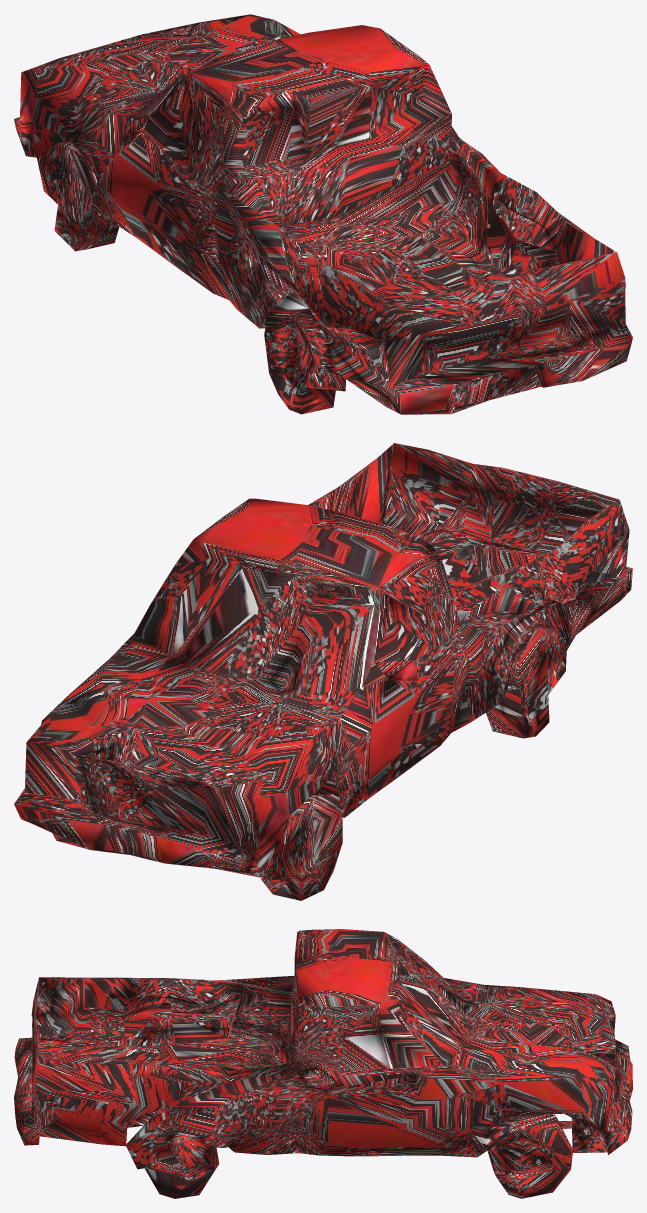
Rendered from pickup.far.glb.
3 renders of one model, top to bottom at view 1: azimuth 30°, elevation 25°; view 2: azimuth 150°, elevation 25°; view 3: azimuth 270°, elevation 25°, orthographic. The views are drawn at different scales.
Size of the model in its own units: 0.7654 by 0.6596 by 1.89.
1 material, 1 textured.
